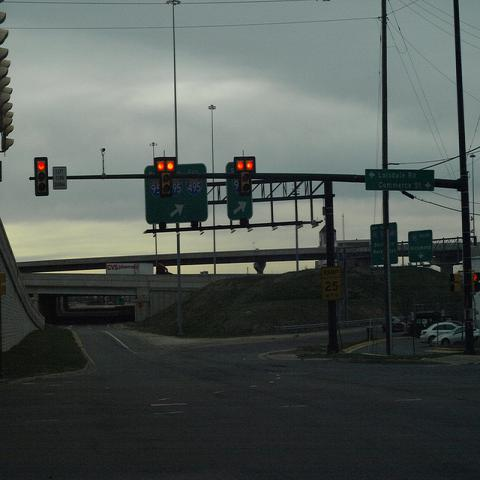car: (420, 322, 458, 346), (440, 326, 480, 348), (381, 316, 404, 331)
